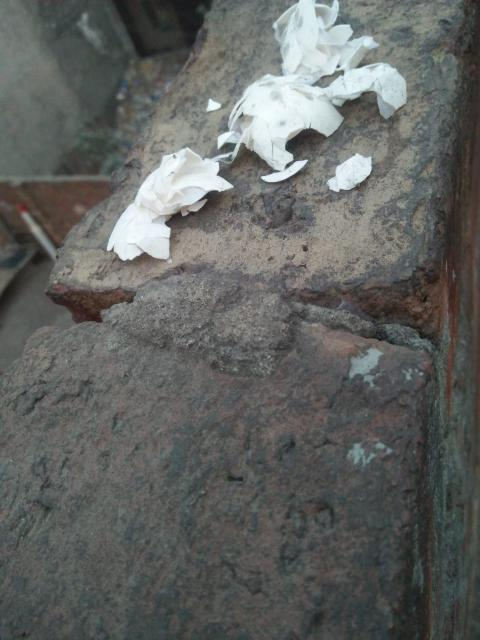Roto: (217, 72, 344, 172), (271, 0, 379, 82), (134, 146, 234, 218), (326, 62, 407, 120), (105, 202, 172, 262), (325, 152, 372, 192), (260, 158, 308, 184)
